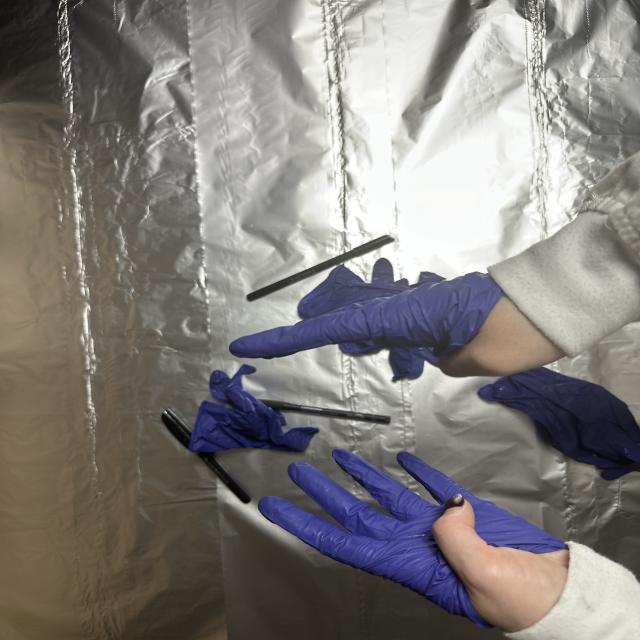glove_partial: (256, 442, 576, 638), (226, 269, 572, 383)
